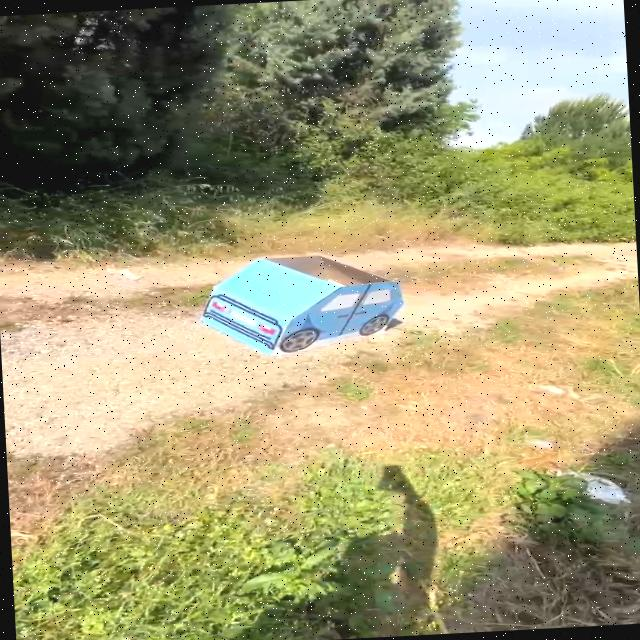blue_car: (174, 237, 428, 372)
